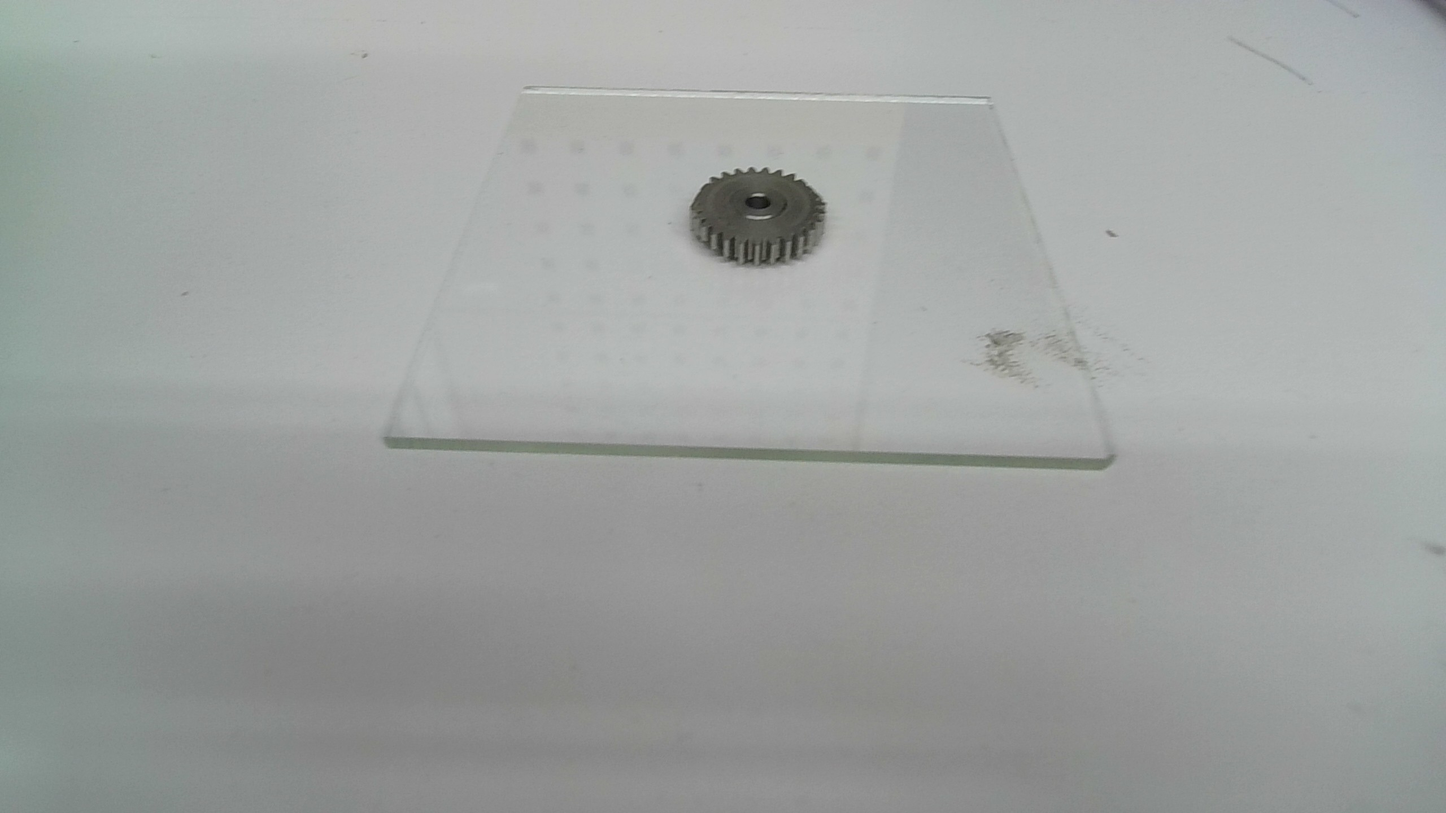gear: (687, 165, 828, 268)
